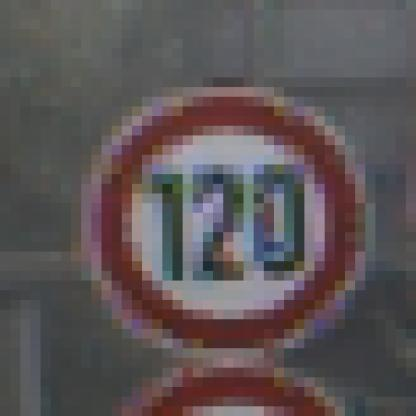Speed Limit 120: (95, 95, 361, 352)
